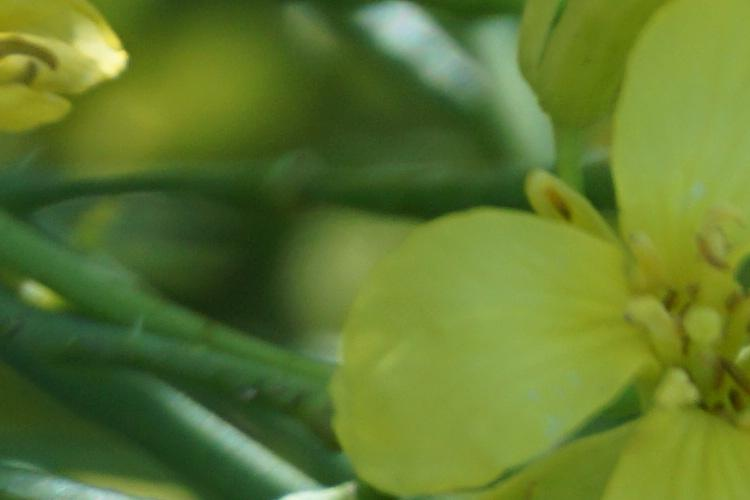yellow: (320, 14, 750, 500), (1, 1, 131, 128)
